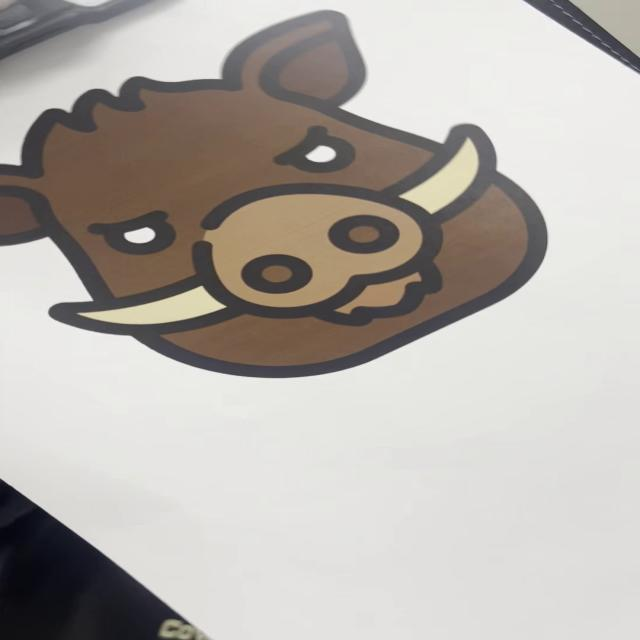animal: (2, 12, 582, 383)
